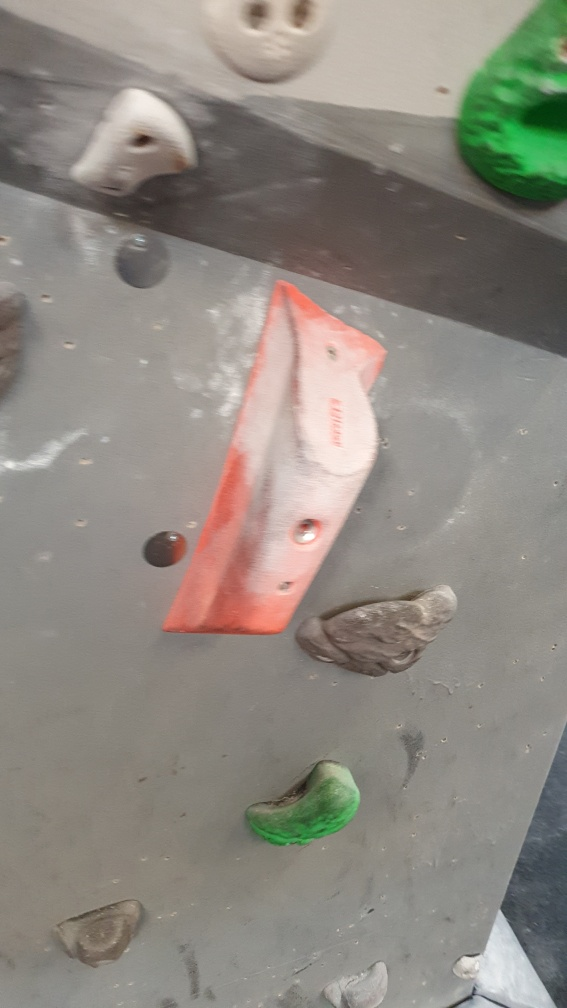Hand Start: (112, 229, 174, 293), (140, 529, 186, 567)
Jug: (295, 581, 456, 676), (243, 751, 361, 849)
Pinch: (158, 279, 391, 643)
